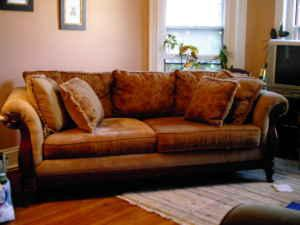Ventana: (156, 2, 235, 65)
